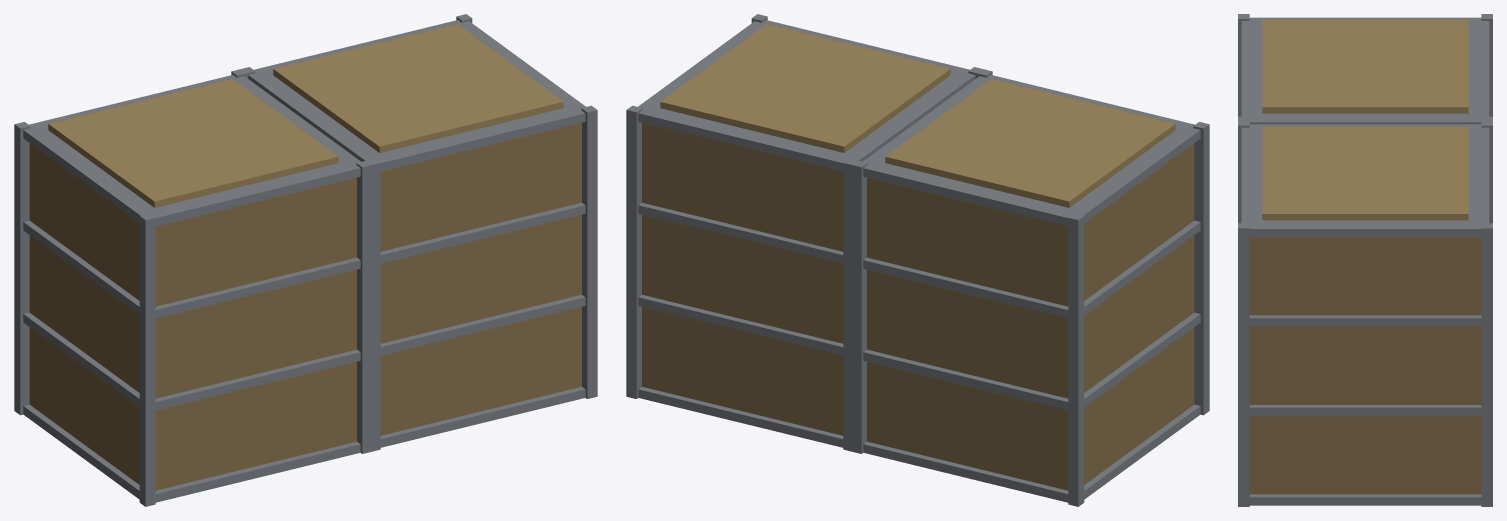
The model's file is hesco_wall.glb.
The picture shows the model from 3 angles, left to right: view 1: azimuth 30°, elevation 25°; view 2: azimuth 150°, elevation 25°; view 3: azimuth 270°, elevation 25°; orthographic projection. The views are drawn at different scales.
Parts seen in each view (by area): view 1: hesco_wall; view 2: hesco_wall; view 3: hesco_wall.
Part boxes in pixels (x1,y1,x2,y2): hesco_wall: (14, 14, 597, 506); hesco_wall: (626, 14, 1209, 506); hesco_wall: (1238, 14, 1492, 506).
Size of the model in its own units: 2.21 by 1.36 by 1.11.
